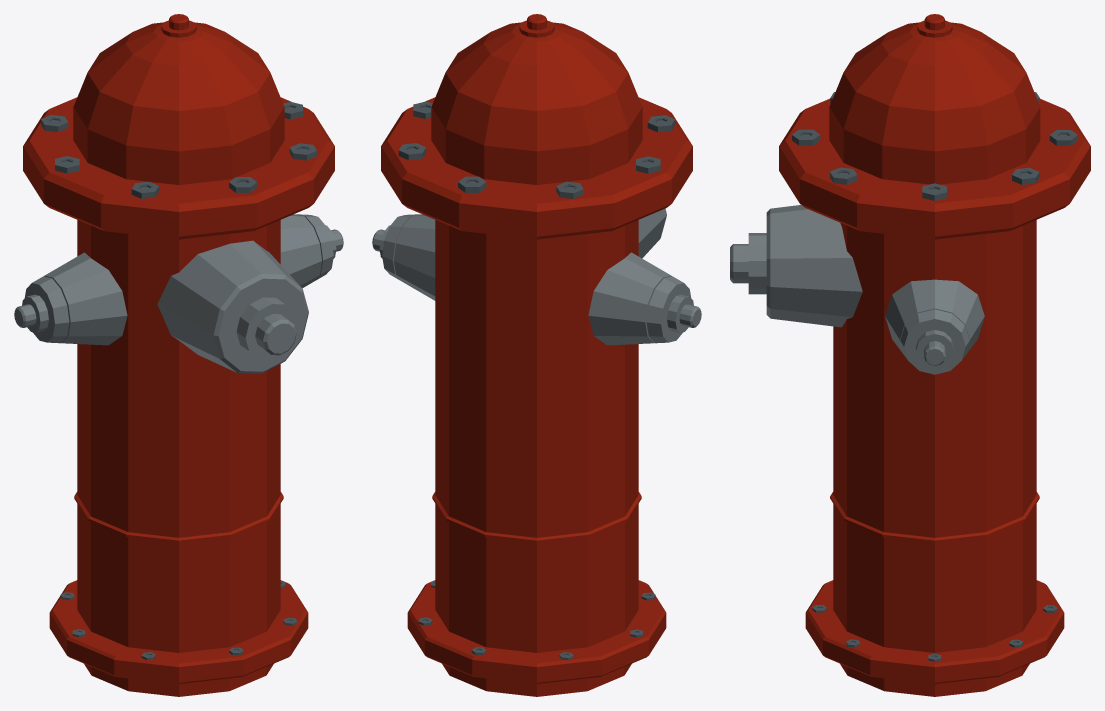
Rendered from hydrant.glb.
3 views of the same model, side by side, from view 1: azimuth 30°, elevation 25°; view 2: azimuth 150°, elevation 25°; view 3: azimuth 270°, elevation 25° (orthographic).
Parts seen in each view (by area): view 1: Fire hidrant_1; view 2: Fire hidrant_1; view 3: Fire hidrant_1.
Boxes of the visible parts, bbox=[...] form: Fire hidrant_1: bbox=[14, 14, 343, 696]; Fire hidrant_1: bbox=[372, 14, 701, 696]; Fire hidrant_1: bbox=[730, 14, 1090, 696].
Bounding box in the file's own units: 3.61 × 6.85 × 3.52.
Materials: 2 (2 with a texture image).
